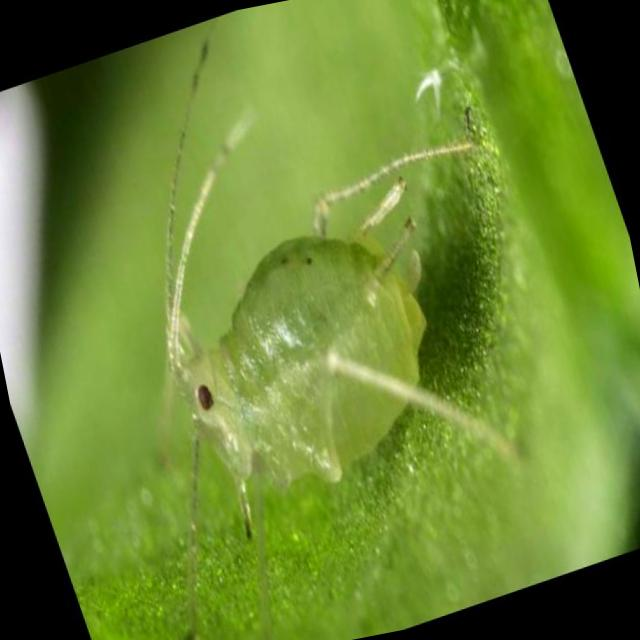aphid: (80, 97, 546, 609)
